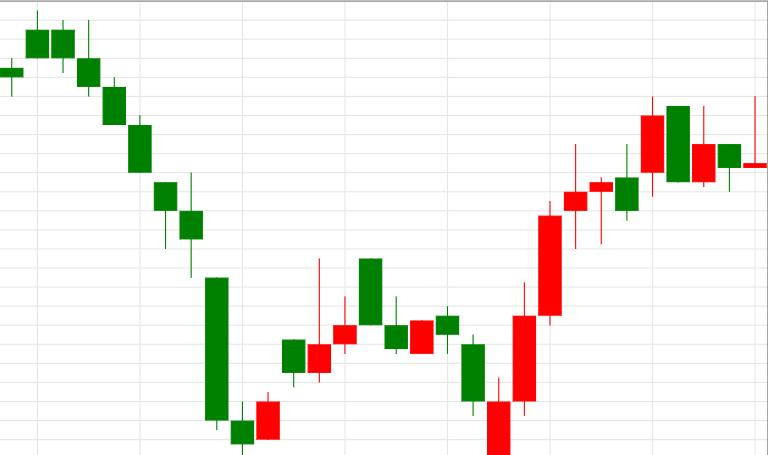three_white_soldiers_rise: (360, 199, 561, 455)
